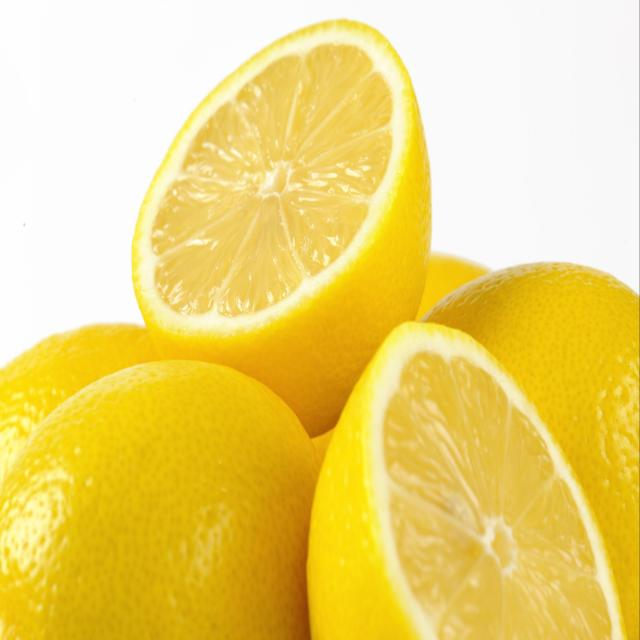lemon: (125, 14, 435, 449)
